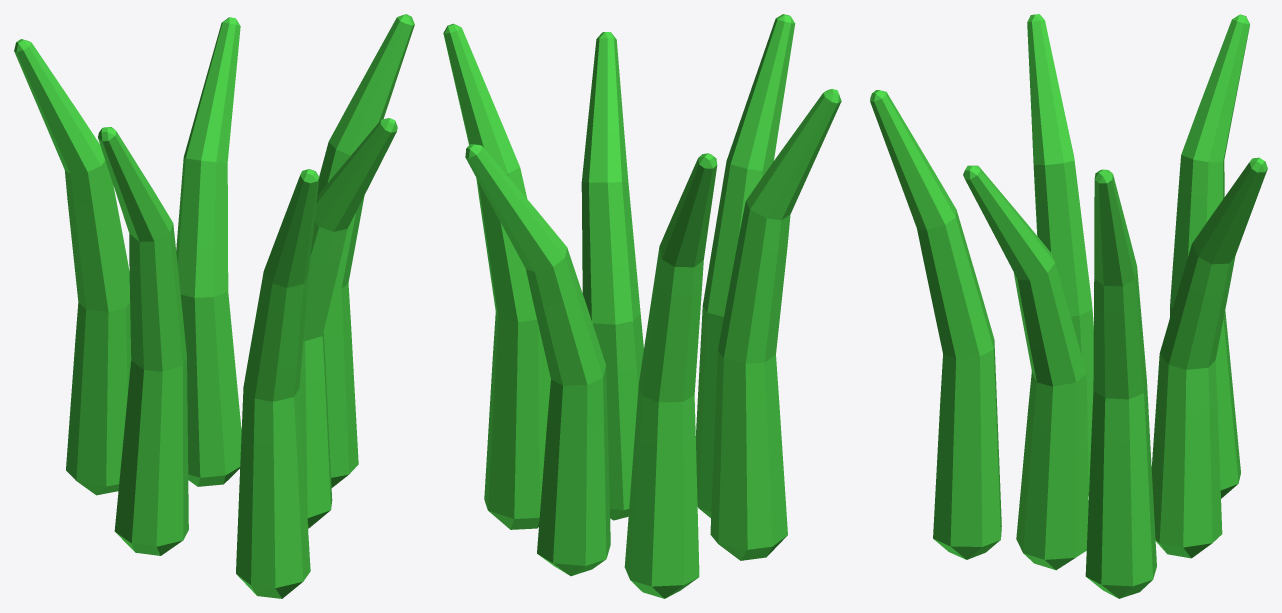
File: Grass4.fbx
3 renders of one model, left to right at view 1: azimuth 30°, elevation 25°; view 2: azimuth 150°, elevation 25°; view 3: azimuth 270°, elevation 25°, orthographic. The views are drawn at different scales.
Visible parts, largest first — view 1: Vert.002; view 2: Vert.002; view 3: Vert.002.
Boxes of the visible parts, x1,y1,x2,y2 form: Vert.002: (14,14,414,598); Vert.002: (443,14,841,598); Vert.002: (870,14,1267,598).
Size of the model in its own units: 20.37 by 26.95 by 20.16.
